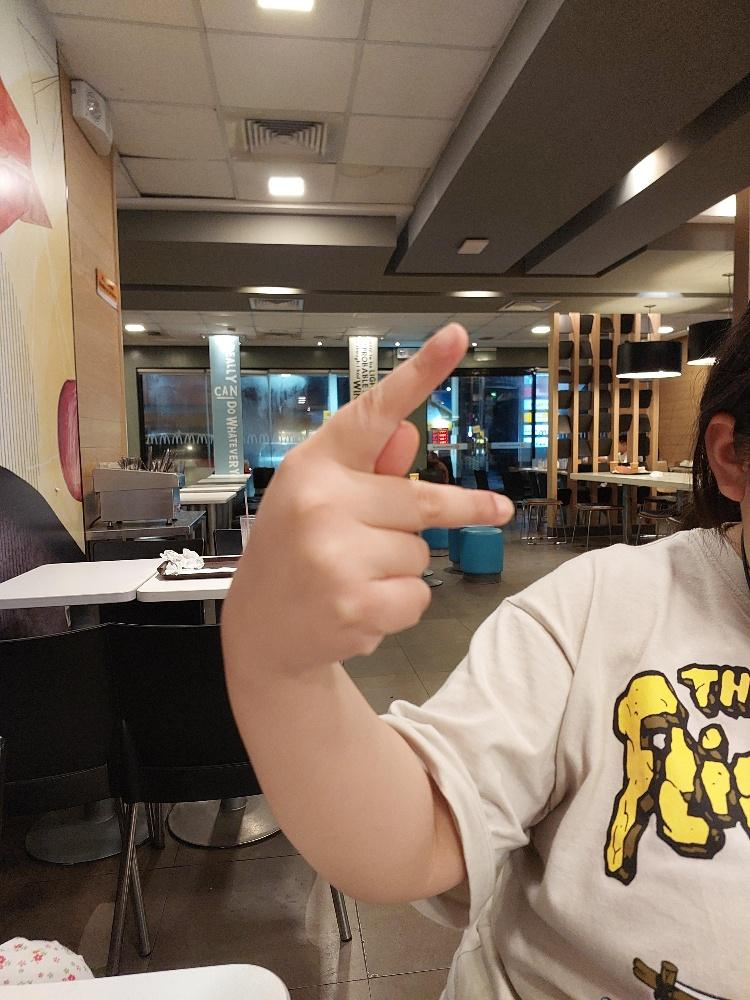k: (218, 319, 515, 676)
